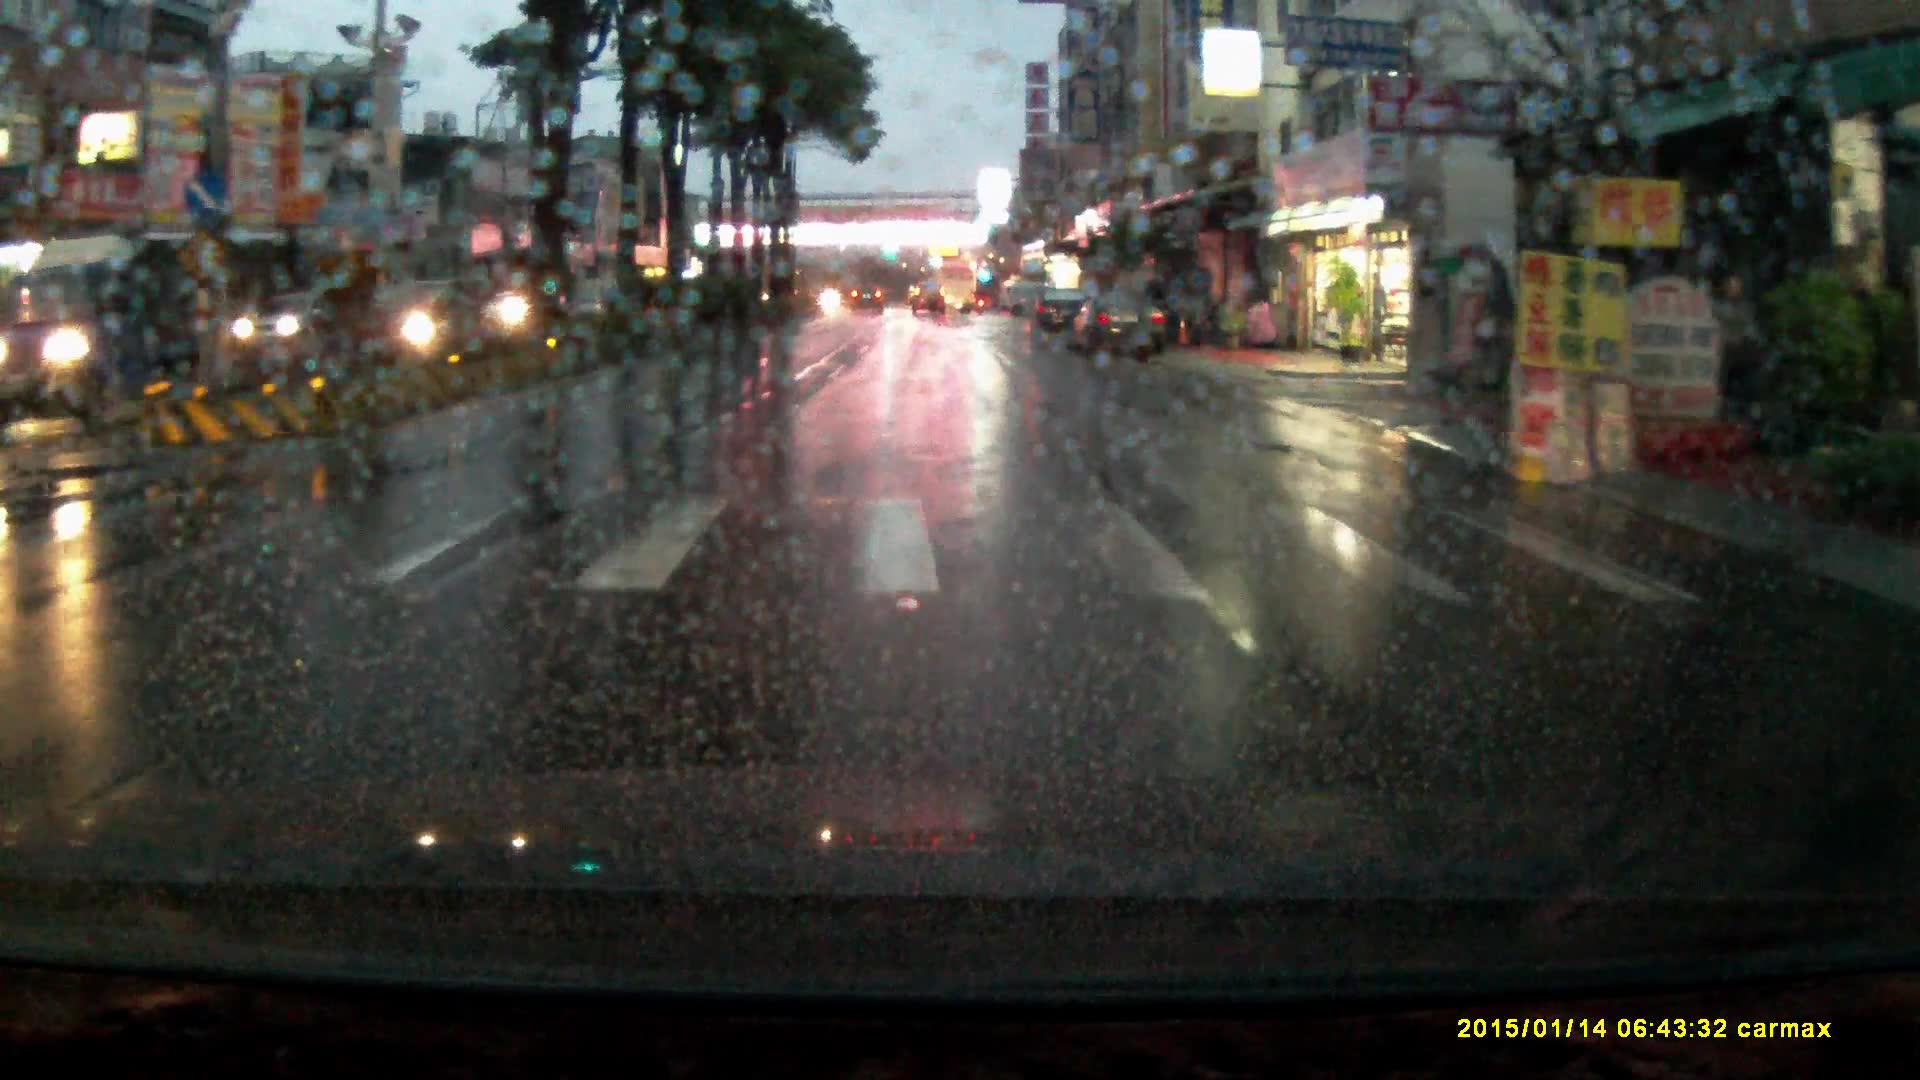rider: (493, 267, 535, 349)
vehicle: (2, 230, 235, 415), (350, 278, 495, 360), (1070, 292, 1172, 366), (237, 293, 346, 361), (1031, 291, 1089, 344), (930, 256, 977, 316), (914, 283, 949, 321), (851, 285, 886, 317)
